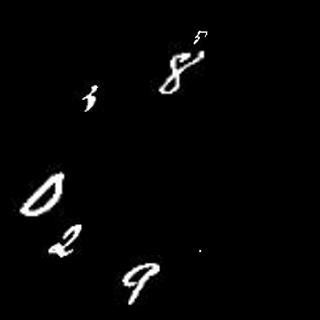dot: (195, 244, 203, 253)
eight: (156, 51, 204, 99)
five: (189, 29, 211, 46)
nine: (122, 261, 159, 304)
three: (78, 80, 101, 113)
two: (47, 220, 86, 260)
zero: (17, 173, 65, 216)
